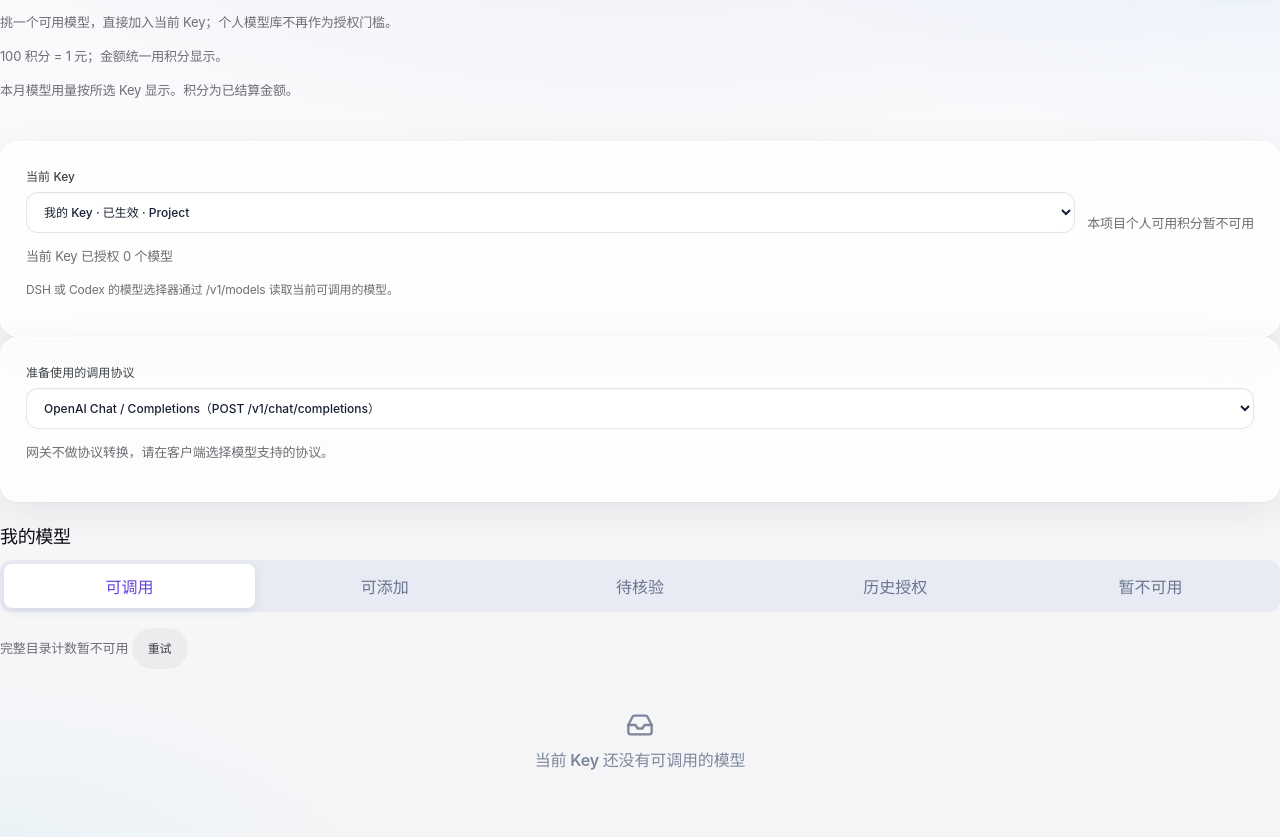
Test: StudentModels key model states › allows adding a degraded model and keeps the degraded warning after it joins the key
The width and height of the screenshot is (1280, 837).
Click the tab "可添加": [385, 586] box 259,564 -> 510,608
(page scrolled)
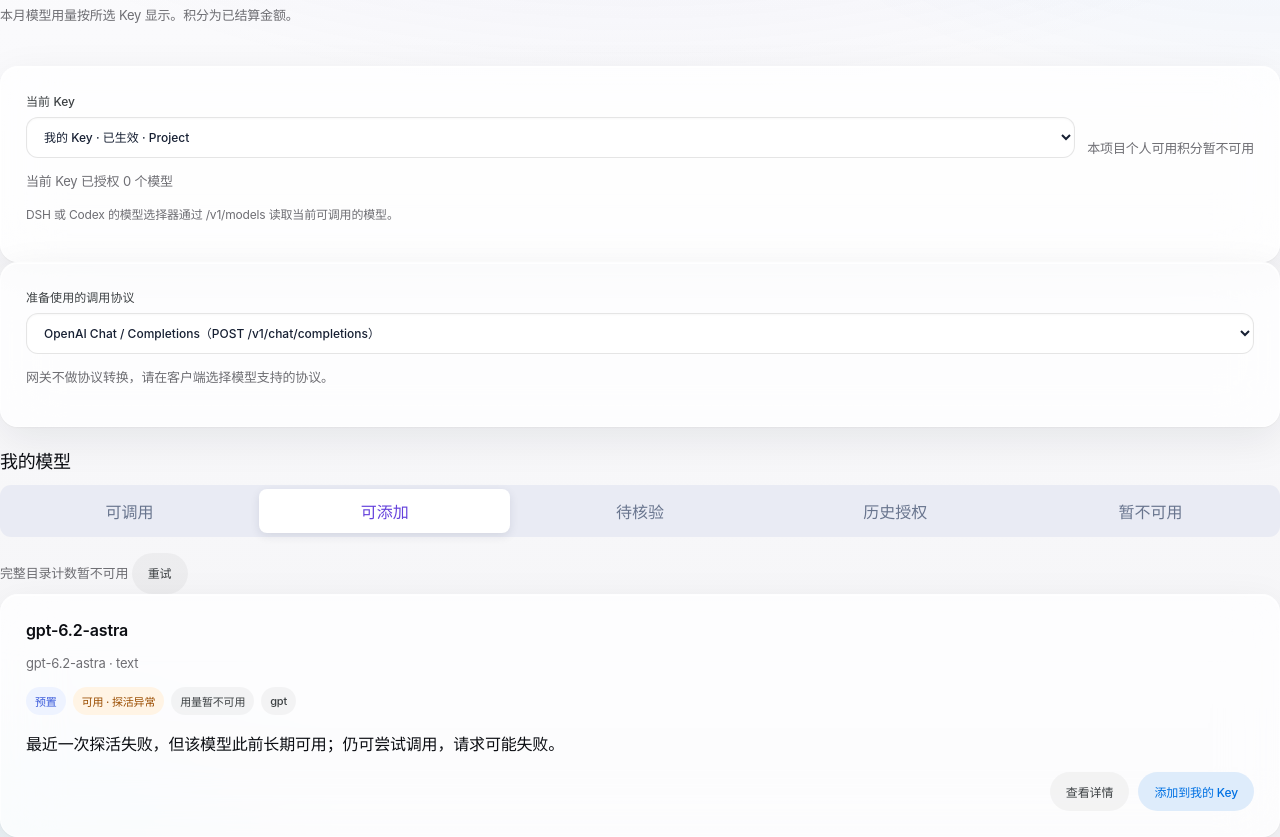
Expected: the text with test id "model-availability" reads "可用 · 探活异常", 82,695 -> 155,709
Expected: the button with test id "sync-key-model" is enabled
Expected: the button with test id "sync-key-model" reads "添加到我的 Key"
Click the button with test id "sync-key-model": [1196, 792] box 1138,772 -> 1254,811
(page scrolled)
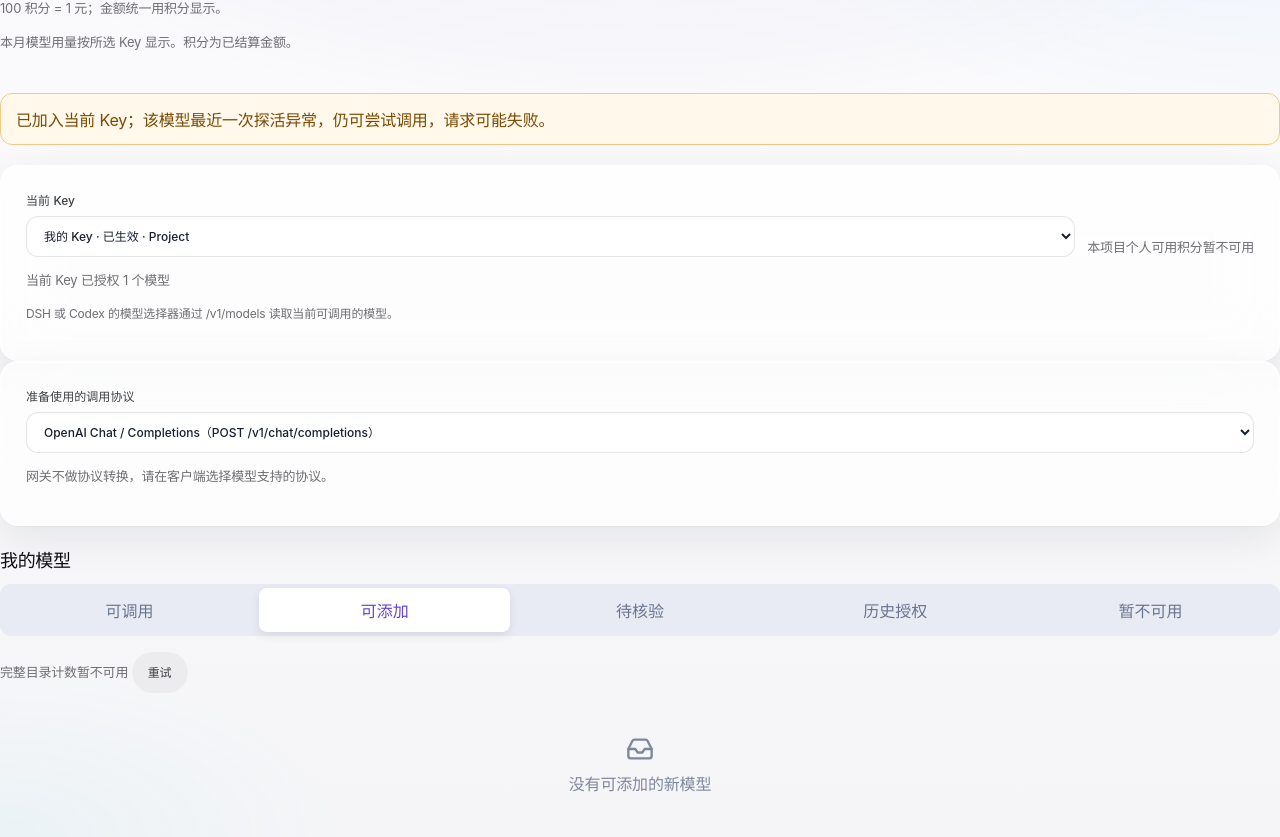
Expected: the message "已加入当前 Key；该模型最近一次探活异常，仍可尝试调用，请求可能失败。" is shown, 0,93 -> 1279,145
Click the tab with test id "model-group-callable": [130, 610] box 4,588 -> 255,632
(page scrolled)
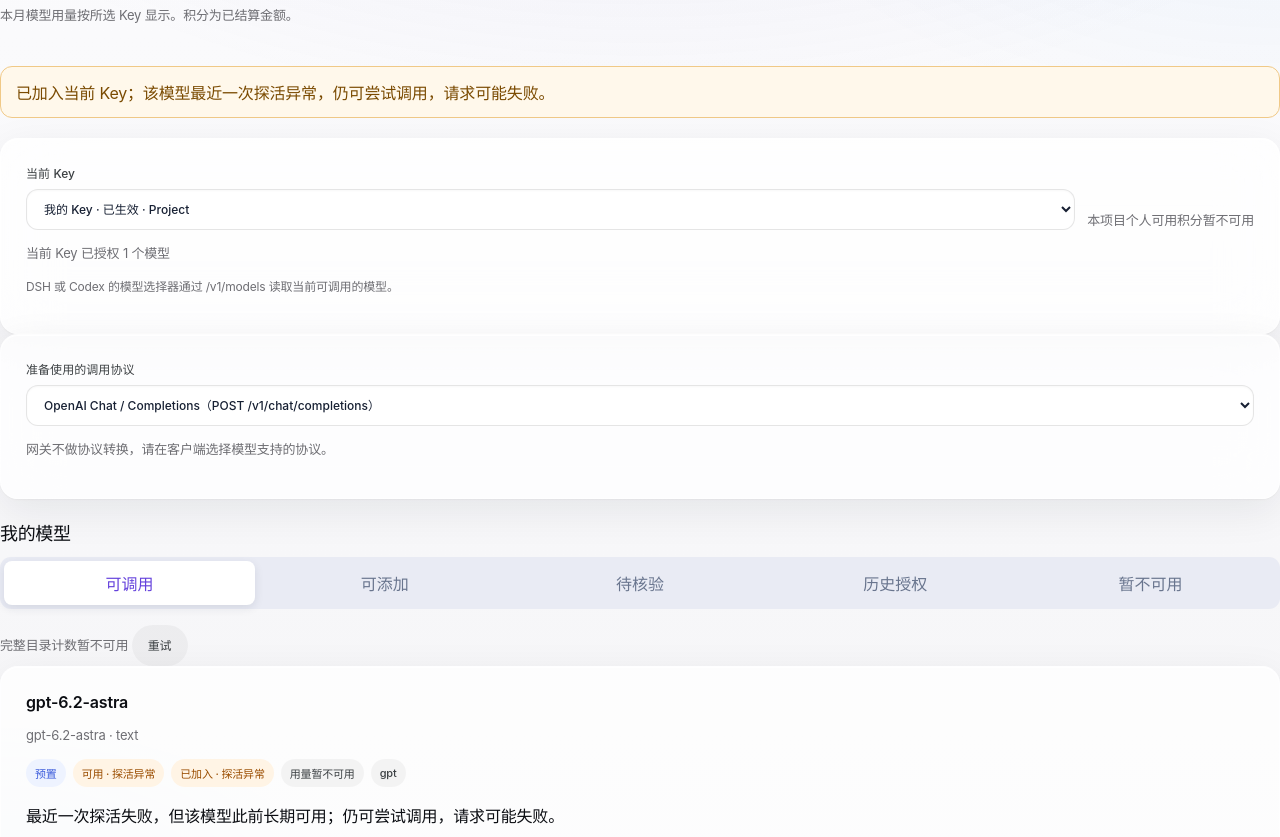
Expected: the text with test id "model-key-status" reads "已加入 · 探活异常", 180,767 -> 265,781
